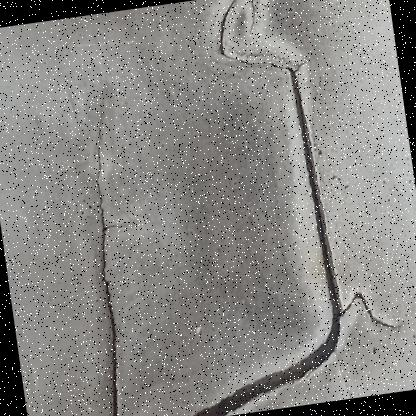Crack: (205, 0, 415, 387), (57, 76, 168, 415), (57, 294, 362, 415)
